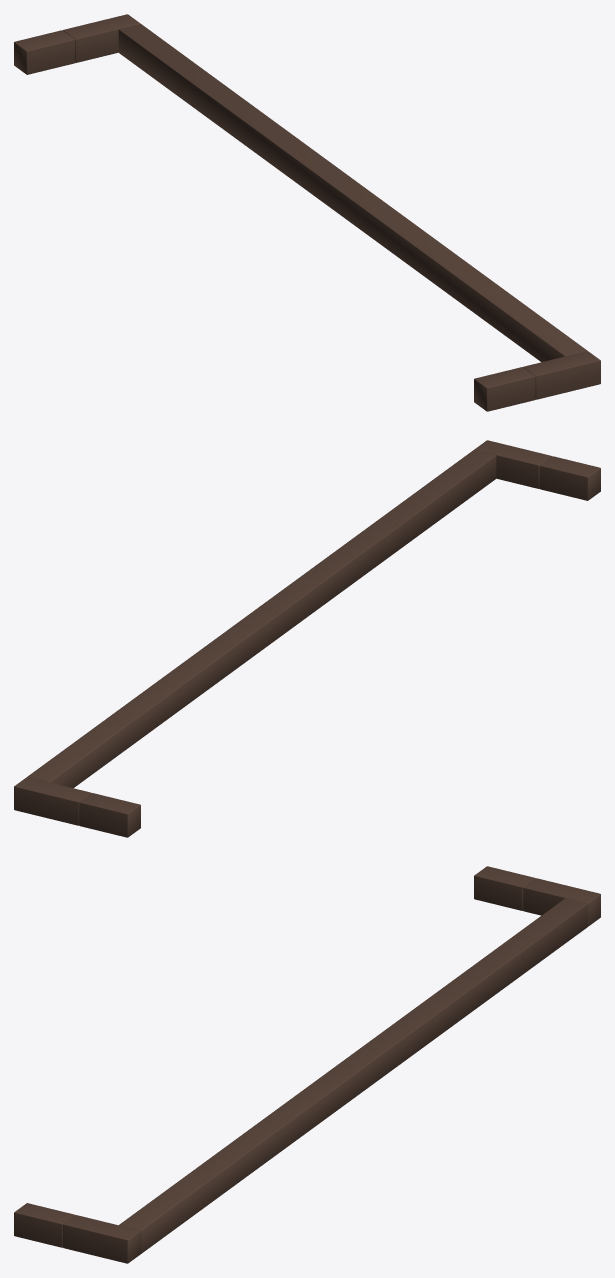
File: SM_Handle_47.5.dae
3 views of the same model, one above another, from view 1: azimuth 30°, elevation 25°; view 2: azimuth 150°, elevation 25°; view 3: azimuth 330°, elevation 25° (orthographic).
Parts seen in each view (by area): view 1: Handle; view 2: Handle; view 3: Handle.
Boxes of the visible parts, x1,y1,x2,y2 form: Handle: (14,14,600,411); Handle: (14,440,600,837); Handle: (14,866,600,1263).
Size of what is drawn, in the model's own units: 0.0701 by 0.5033 by 0.014.
Materials: 1 (1 with a texture image).
